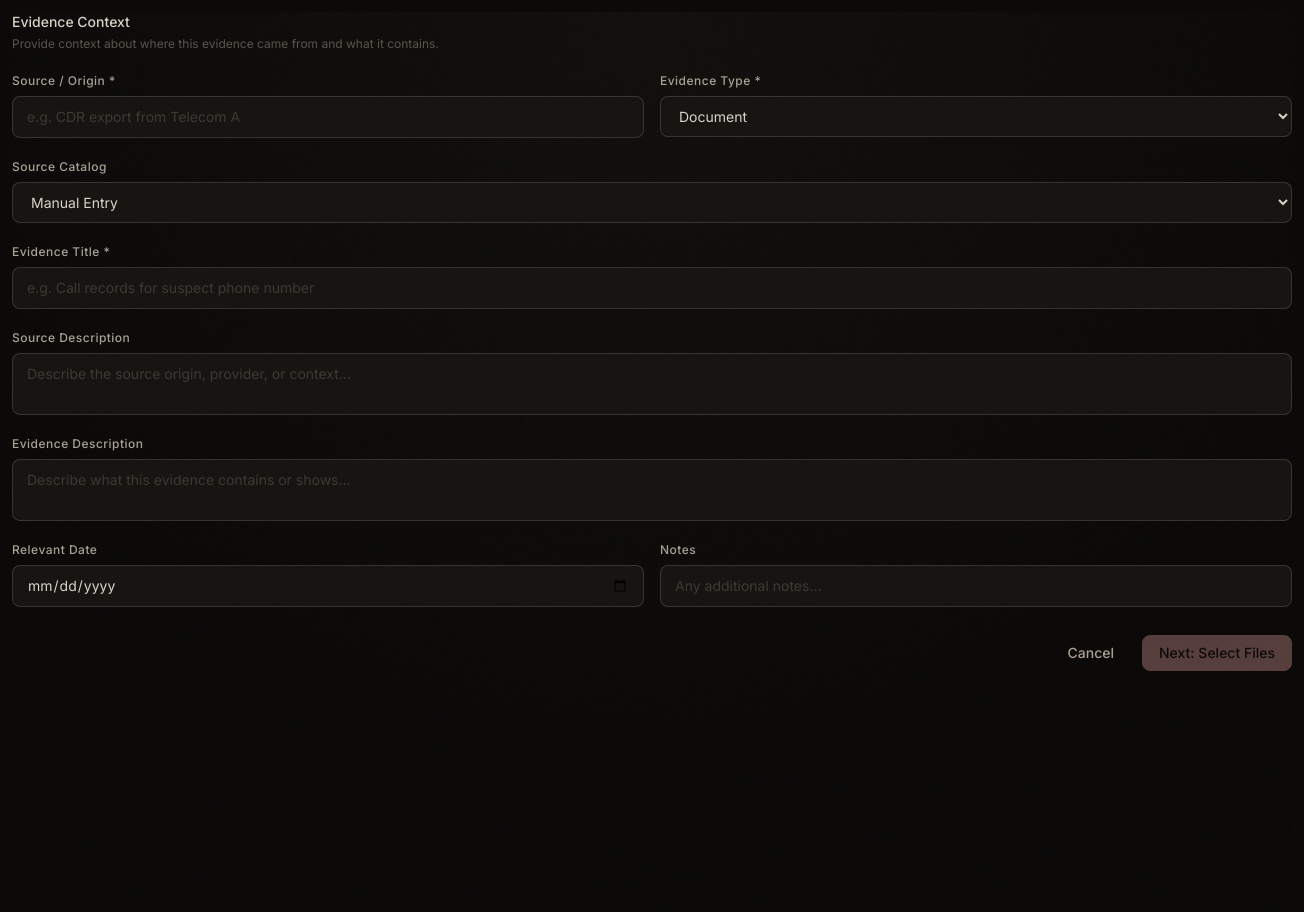
Test: EvidenceMetadataForm › enables submit when required fields are filled
Type "Police report" into the field labelled "Source / Origin *" at (328, 117), box [12,96,644,138]
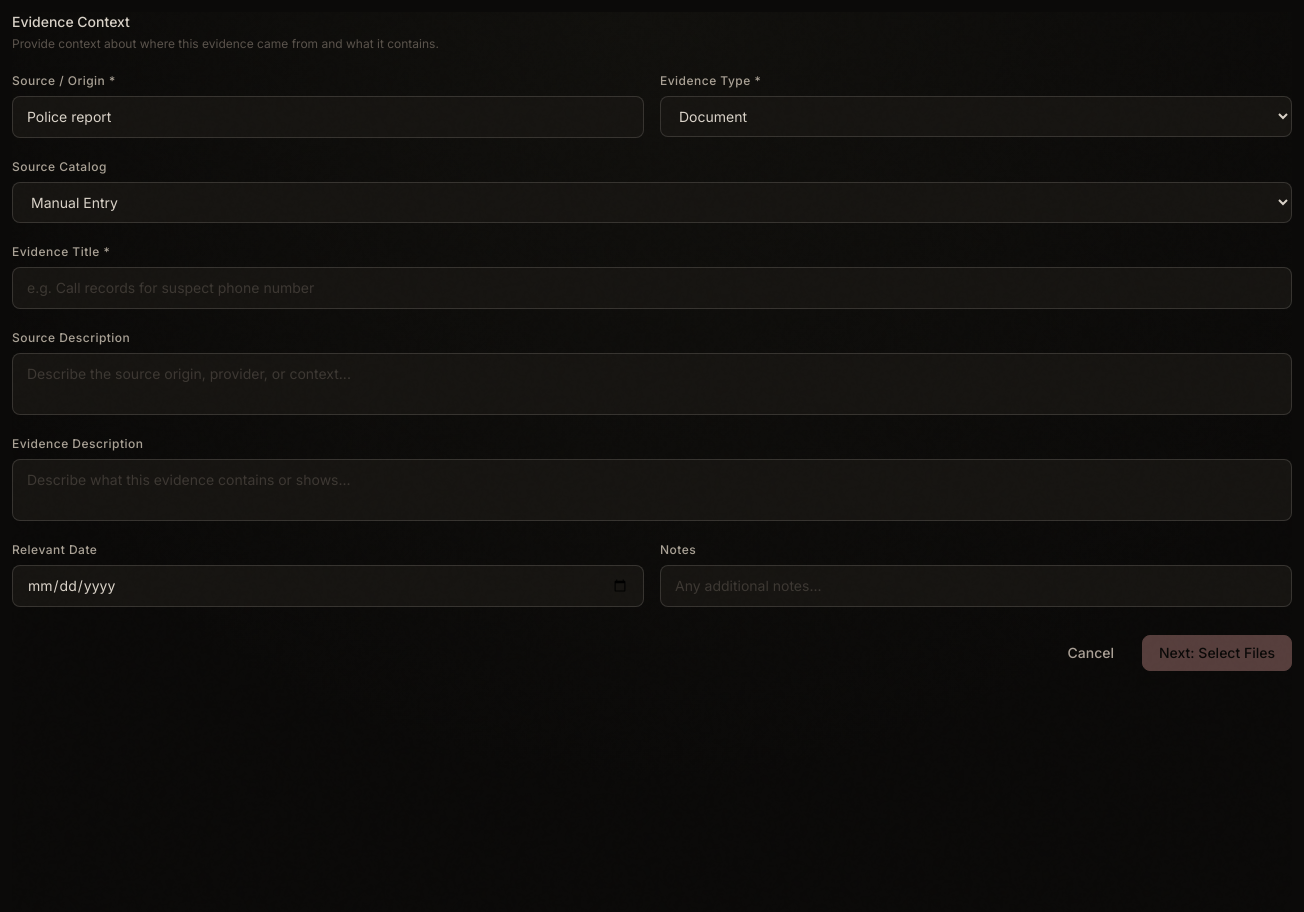
Type "FIR copy" into the field labelled "Evidence Title *" at (652, 288), box [12,267,1292,309]
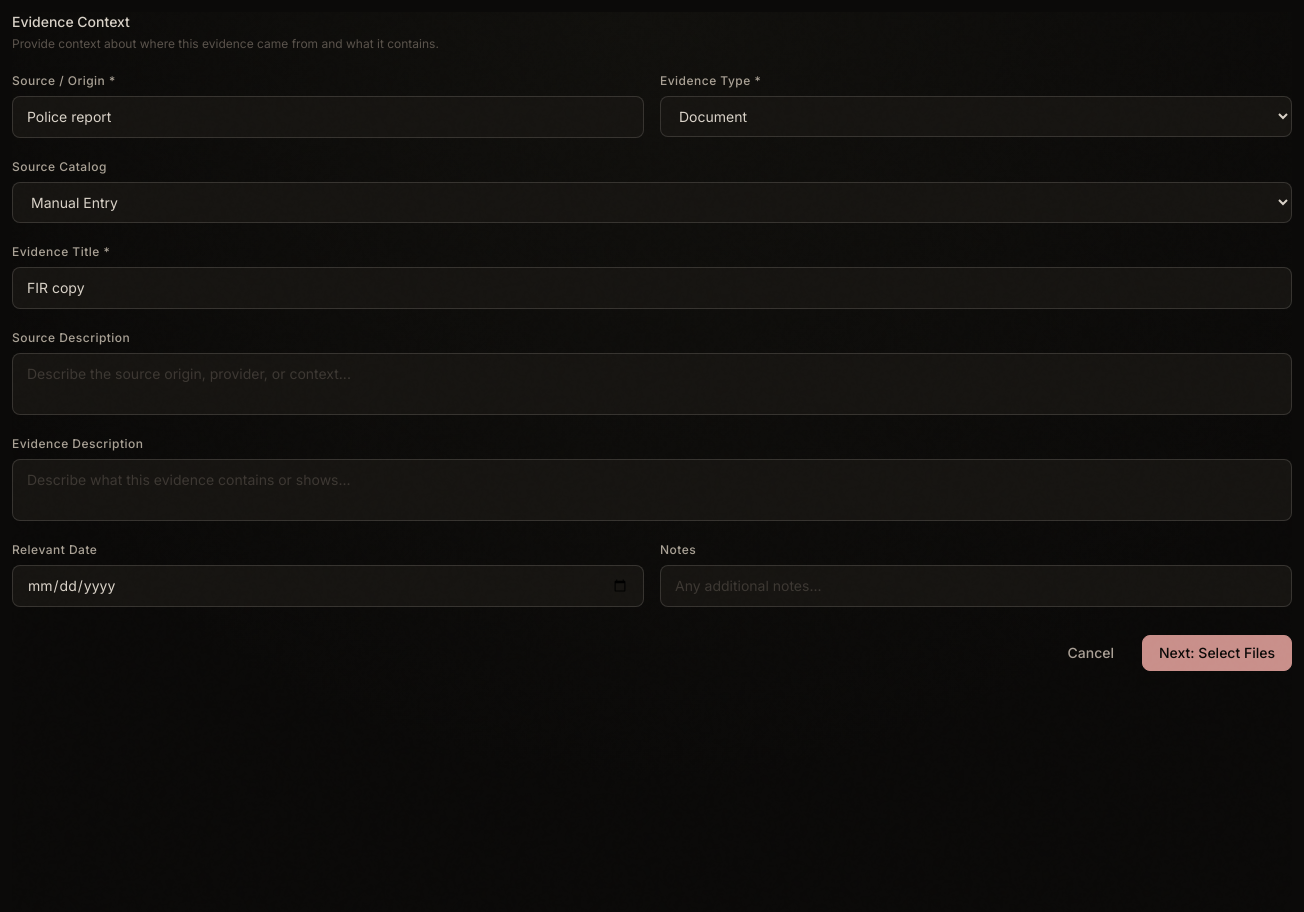
Expected: the button "Next: Select Files" is enabled, [1142,635,1292,671]
